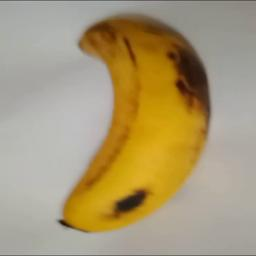Banana Semifresh: (57, 8, 214, 239)
